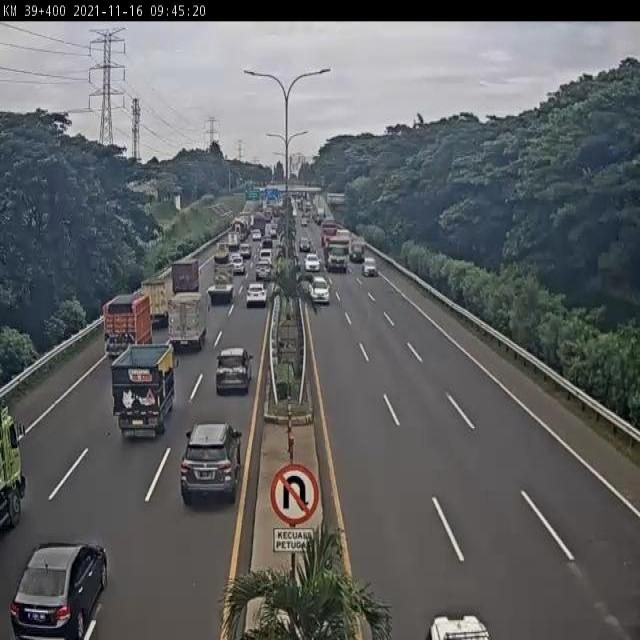Car: (10, 540, 109, 640), (180, 422, 243, 504), (216, 347, 254, 395), (308, 276, 330, 305), (246, 282, 268, 308), (255, 258, 273, 281), (303, 253, 322, 273), (361, 256, 377, 278), (228, 256, 246, 274), (298, 236, 312, 252), (240, 243, 252, 260), (252, 229, 262, 243), (262, 235, 272, 248)
Truck: (110, 343, 179, 438), (101, 293, 153, 363), (0, 407, 26, 536), (167, 290, 210, 351), (141, 276, 171, 330), (208, 262, 234, 306), (171, 257, 202, 292), (323, 235, 350, 274), (320, 221, 338, 246), (230, 216, 247, 242), (213, 241, 230, 264), (253, 210, 266, 237), (240, 210, 253, 232), (227, 232, 240, 252)
Van: (259, 248, 274, 261)
